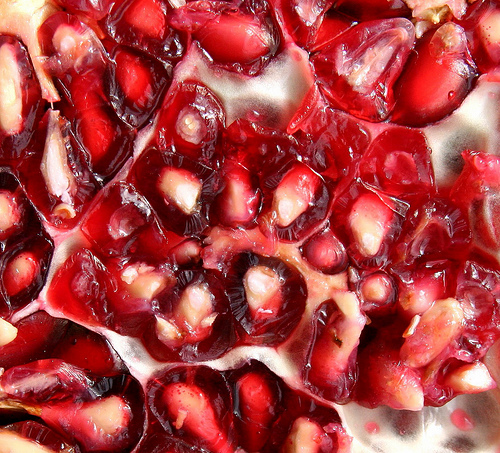pomogranate: (0, 0, 498, 449)
